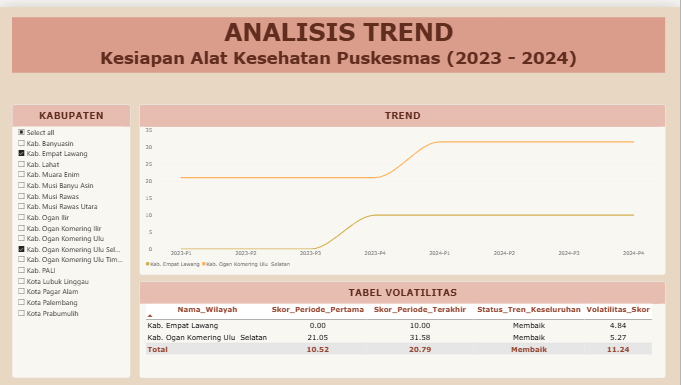

Layout of this report page (visuals, bound fields, positions):
{"tool":"powerbi","page":{"name":"Page 3","canvas":[1920,1080],"ordinal":2},"visuals":[{"type":"lineChart","title":"TREND ","fields":{"Category":["public alkes.Label_Periode"],"Series":["public alkes.Nama_Wilayah"],"Y":["public alkes.Skor rata-rata"]},"box":[392.9,277.1,1485.4,481.5],"z":0},{"type":"tableEx","title":"TABEL VOLATILITAS","fields":{"Values":["public alkes.Nama_Wilayah","public alkes.Skor_Periode_Pertama","public alkes.Skor_Periode_Terakhir","public alkes.Status_Tren_Keseluruhan","public alkes.Volatilitas_Skor"]},"box":[392.9,776.8,1485.4,272.6],"z":1000},{"type":"listSlicer","title":"KABUPATEN","fields":{"Values":["public alkes.Nama_Wilayah"]},"box":[34.1,277.1,333.9,772.2],"z":2000},{"type":"textbox","title":"ANALISIS TREND ","box":[34.1,29.5,1844.3,213.5],"z":3000}]}

Visuals, with their boxes in screenshot pixels (x1, y1, x2, y2), scaled from the page's 1920x1080 canvas onto the 681x385 screenshot:
"TREND " lineChart: [139,99,666,270]
"TABEL VOLATILITAS" tableEx: [139,277,666,374]
"KABUPATEN" listSlicer: [12,99,131,374]
"ANALISIS TREND " textbox: [12,11,666,87]
